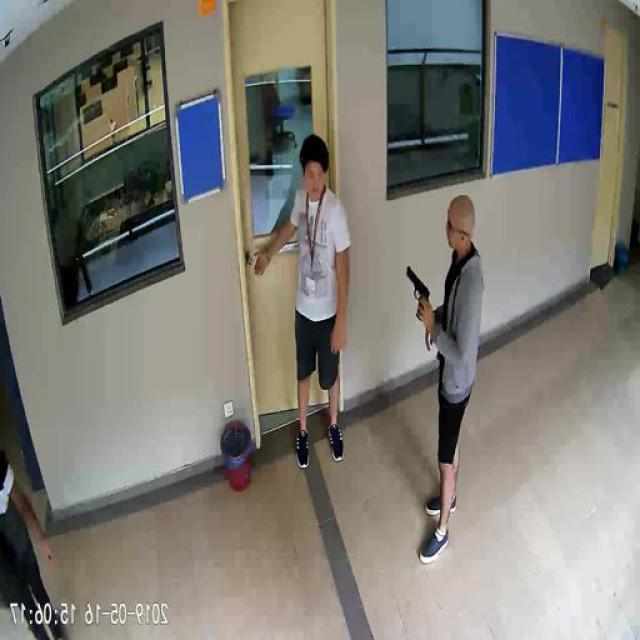Gun: (408, 264, 432, 318)
